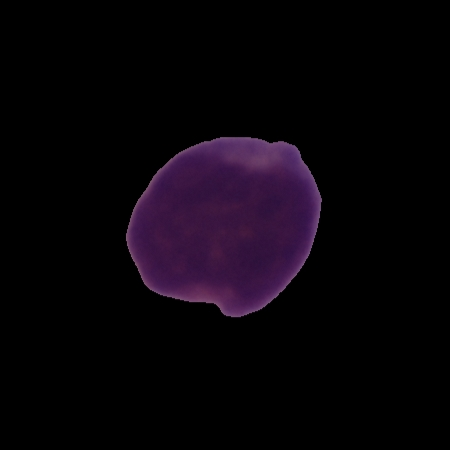ALL: (121, 132, 325, 320)
